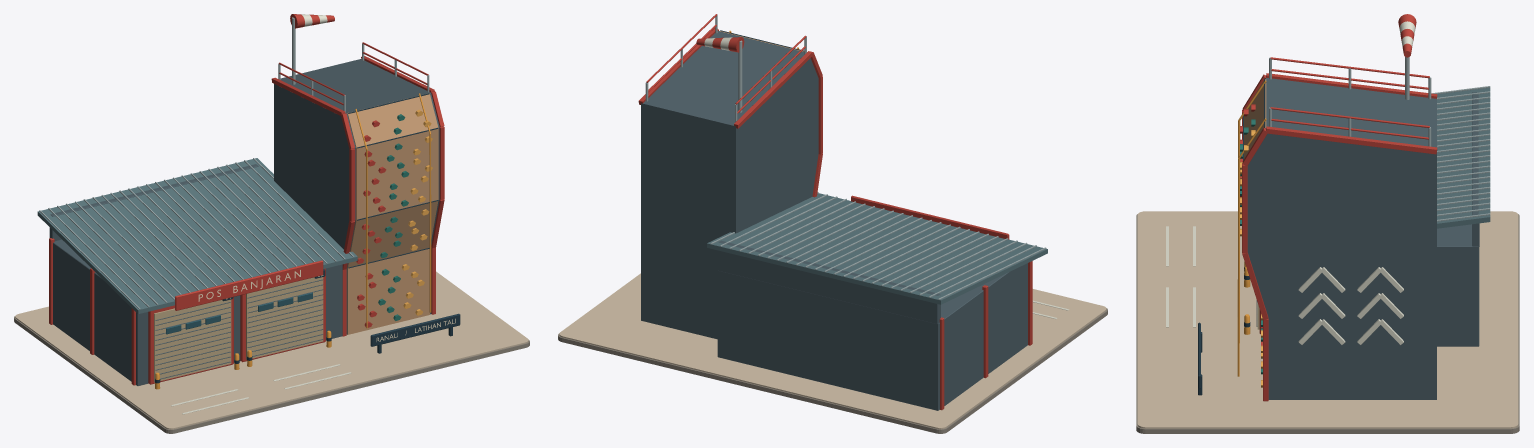
3 views of the same model, side by side, from view 1: azimuth 30°, elevation 25°; view 2: azimuth 150°, elevation 25°; view 3: azimuth 270°, elevation 25° (orthographic). The views are drawn at different scales.
Visible parts, largest first — view 1: Rope Practice Tower, Weather Hoods, Basalt Apron, Expedition Garage, High Angle Equipment; view 2: Rope Practice Tower, Expedition Garage, Weather Hoods, Basalt Apron, High Angle Equipment; view 3: Rope Practice Tower, Basalt Apron, Weather Hoods, Expedition Garage, High Angle Equipment.
Boxes of the visible parts, x1,y1,x2,y2 form: Rope Practice Tower: (271, 56, 444, 336); Weather Hoods: (37, 158, 357, 314); Basalt Apron: (14, 271, 529, 433); Expedition Garage: (49, 164, 342, 385); High Angle Equipment: (278, 14, 432, 328); Rope Practice Tower: (638, 28, 822, 339); Expedition Garage: (717, 195, 1032, 410); Weather Hoods: (707, 192, 1047, 304); Basalt Apron: (558, 273, 1107, 433); High Angle Equipment: (645, 14, 806, 122); Rope Practice Tower: (1242, 73, 1437, 401); Basalt Apron: (1136, 211, 1519, 433); Weather Hoods: (1432, 86, 1490, 228); Expedition Garage: (1256, 92, 1479, 346); High Angle Equipment: (1237, 14, 1431, 387).
Bounding box in the file's own units: 22.5 × 16.62 × 16.8.
